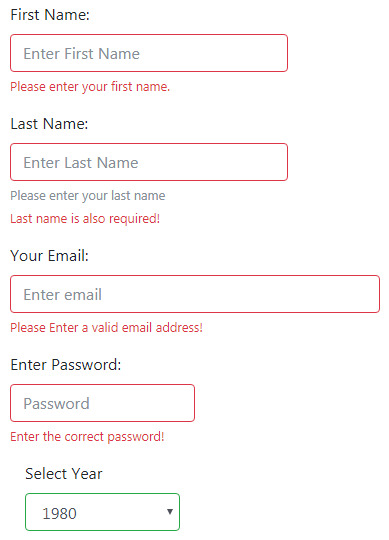error_field: (9, 274, 381, 314), (9, 33, 290, 74), (9, 142, 290, 182), (8, 383, 196, 423)
error_message: (10, 79, 171, 94), (10, 321, 203, 333), (8, 211, 161, 226), (9, 431, 166, 444)
